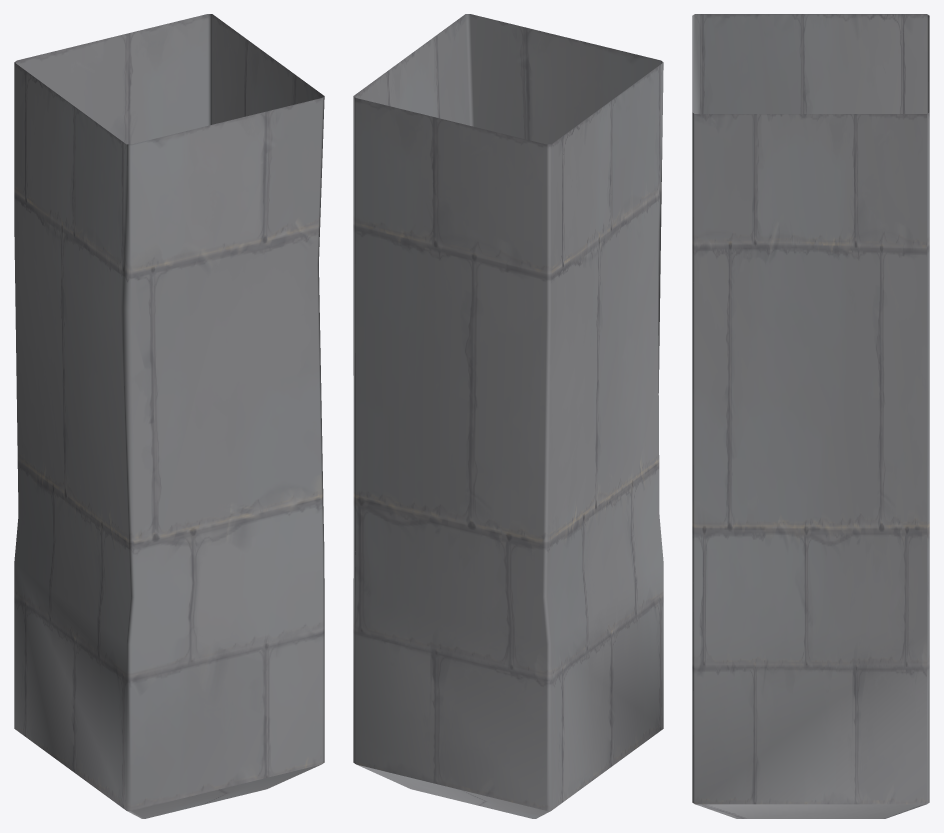
The model's file is SM_ColumnLarge.fbx.
3 views of the same model, side by side, from view 1: azimuth 30°, elevation 25°; view 2: azimuth 150°, elevation 25°; view 3: azimuth 270°, elevation 25° (orthographic). The views are drawn at different scales.
Parts seen in each view (by area): view 1: SM_ColumnLarge; view 2: SM_ColumnLarge; view 3: SM_ColumnLarge.
Part boxes in pixels (<box>): SM_ColumnLarge: <box>14,14,324,818</box>; SM_ColumnLarge: <box>353,14,663,818</box>; SM_ColumnLarge: <box>692,14,929,818</box>.
Bounding box in the file's own units: 0.6222 × 2.1 × 0.6239.
